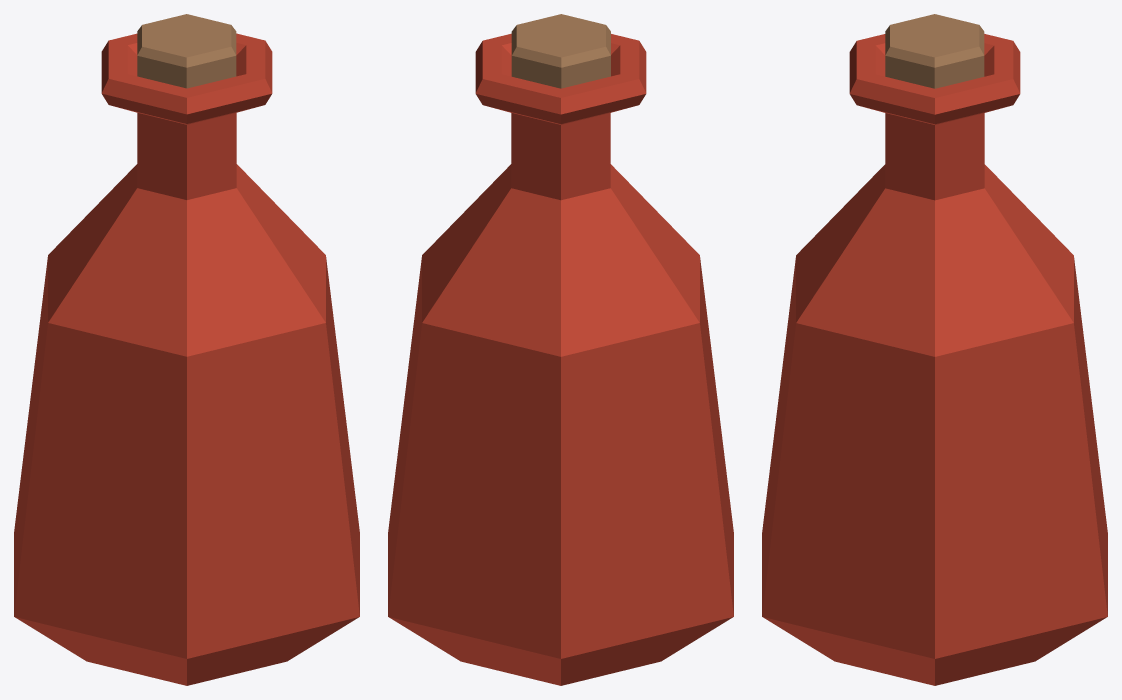
The model's file is Red_Potion_7.fbx.
3 renders of one model, left to right at view 1: azimuth 30°, elevation 25°; view 2: azimuth 150°, elevation 25°; view 3: azimuth 270°, elevation 25°, orthographic.
Parts seen in each view (by area): view 1: Red_Potion_7; view 2: Red_Potion_7; view 3: Red_Potion_7.
Boxes of the visible parts, x1,y1,x2,y2 form: Red_Potion_7: [14, 14, 359, 685]; Red_Potion_7: [388, 14, 733, 685]; Red_Potion_7: [762, 14, 1107, 685].
Size of the model in its own units: 20.48 by 34.03 by 17.74.
